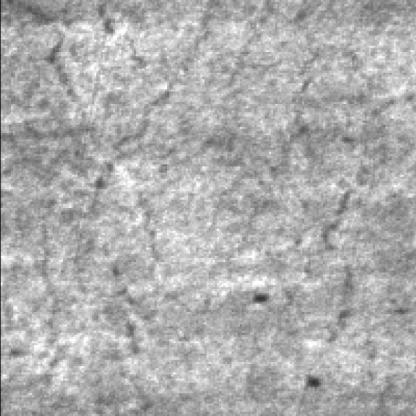crazing: (260, 31, 389, 341), (4, 0, 175, 196)
